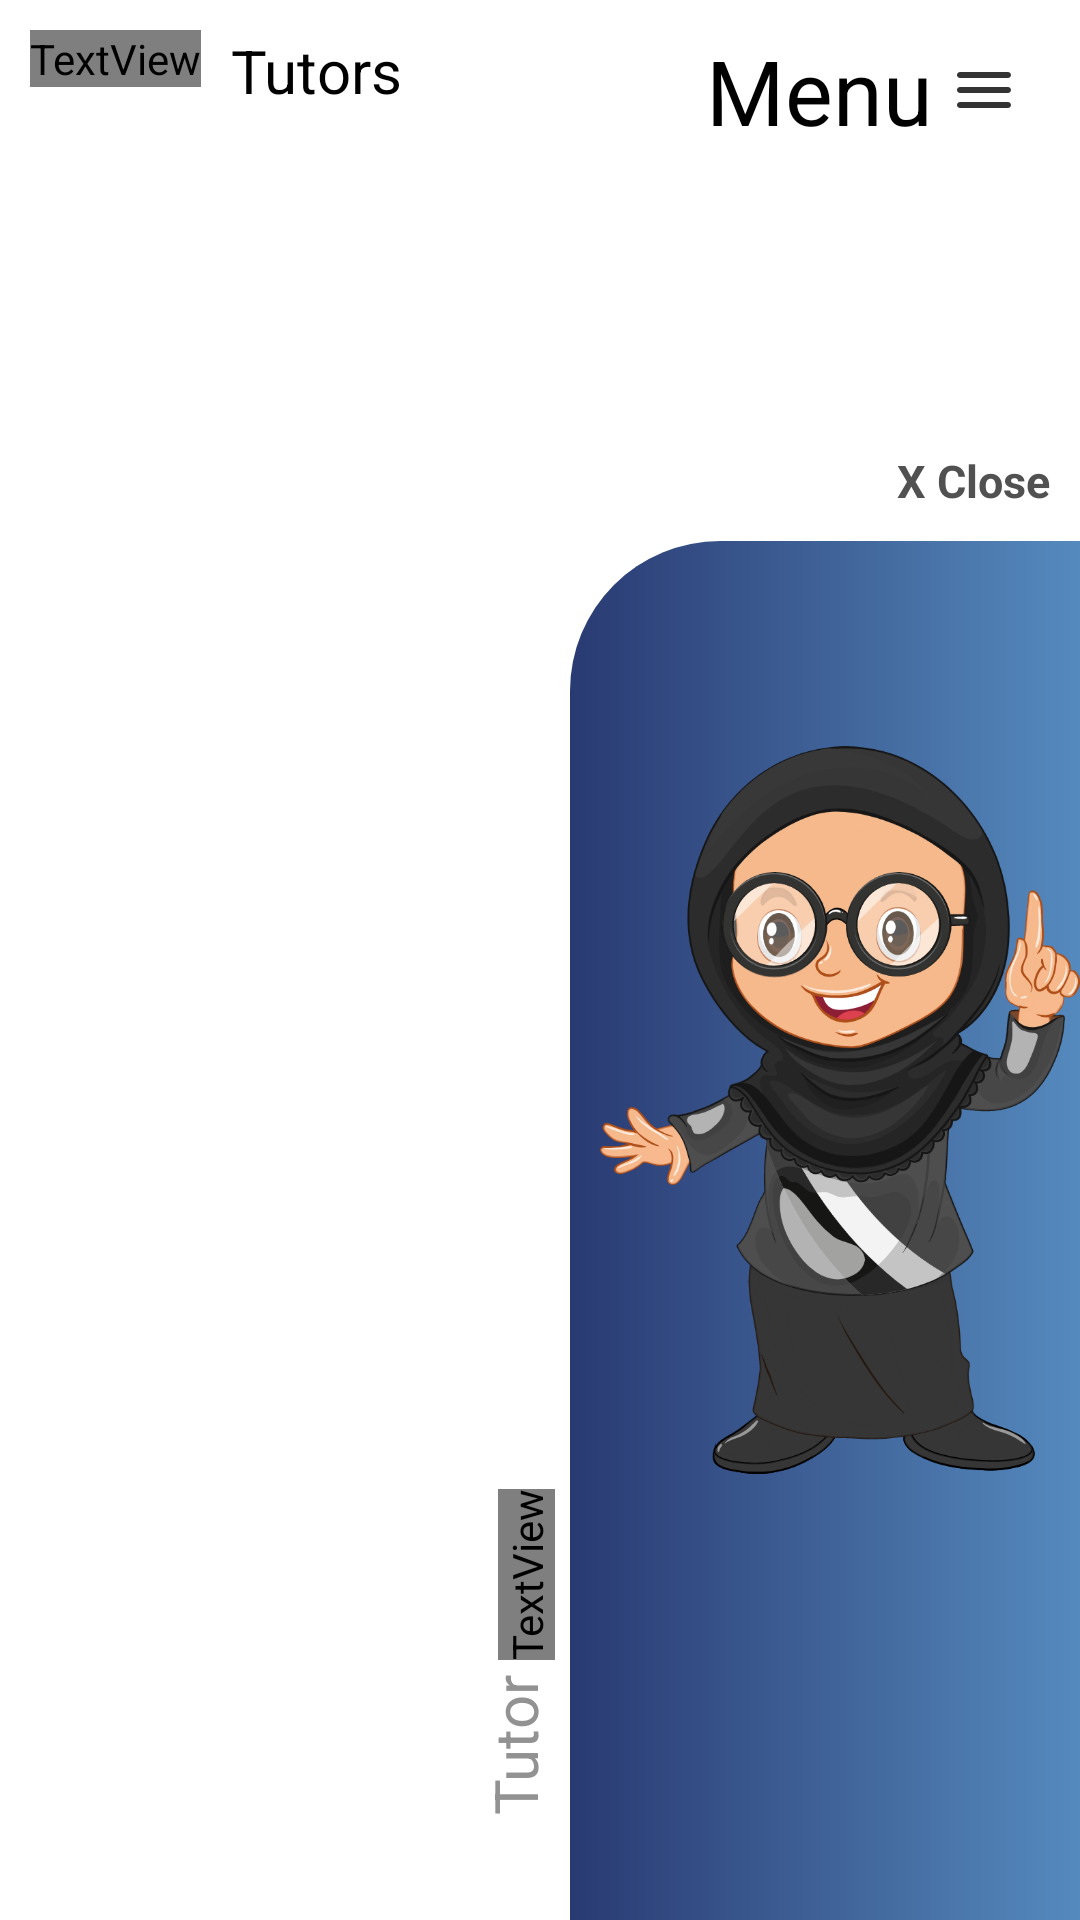

Where icons sit on this 1080x1920 app screen, as (x1, y1, x2, y2):
hamburger: (957, 72, 1011, 108)
